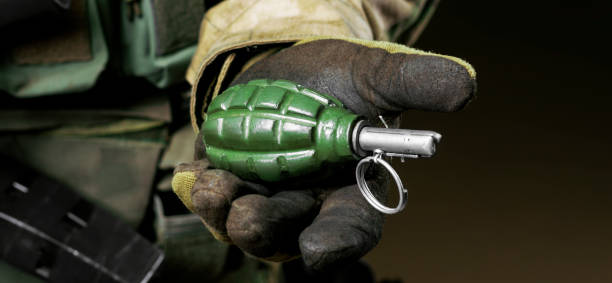e1: (200, 73, 442, 216)
